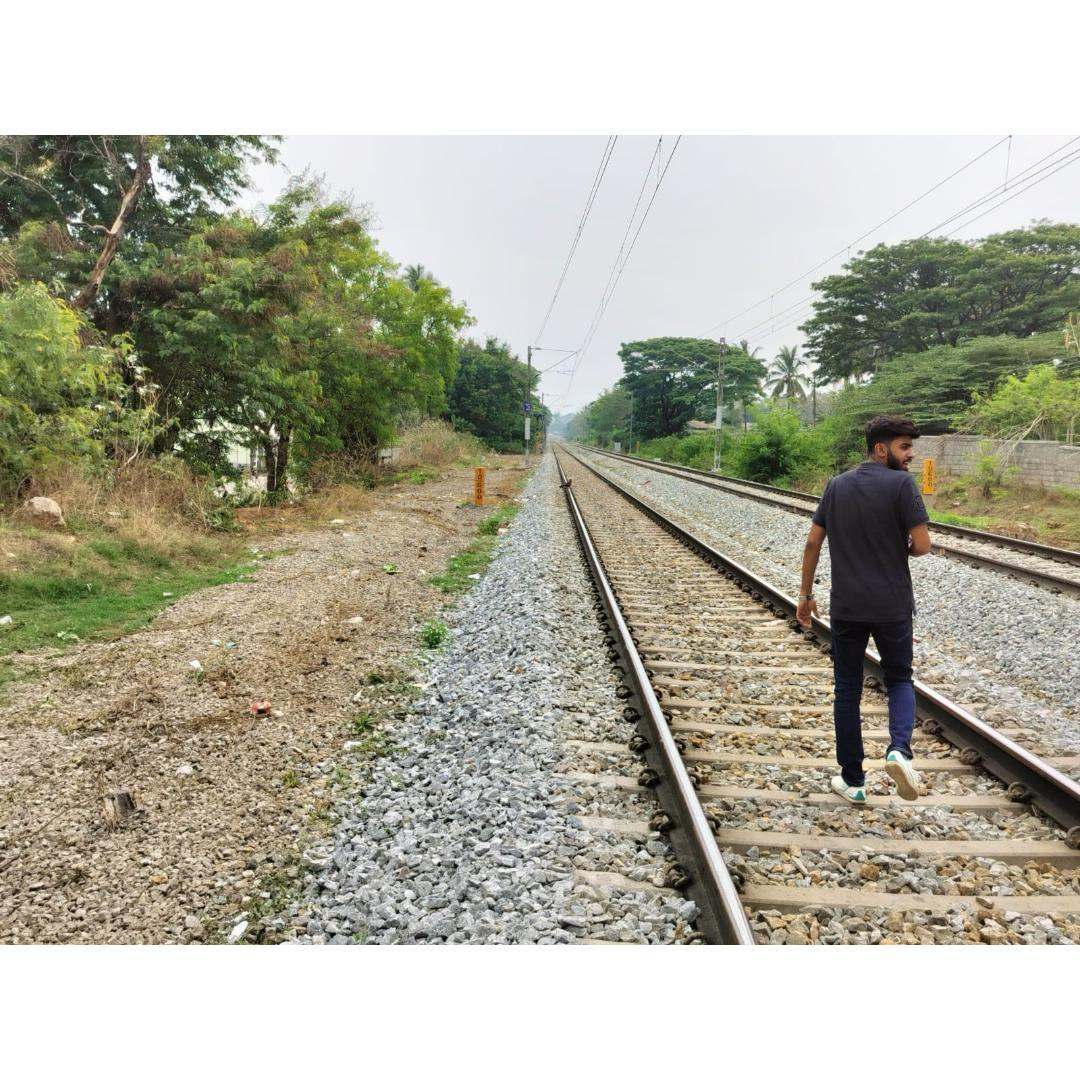standing: (790, 419, 950, 807)
track: (544, 437, 1080, 945)
